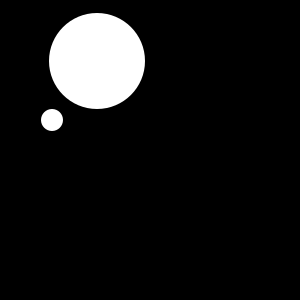rectangle: (49, 13, 145, 109), (41, 109, 63, 131)
